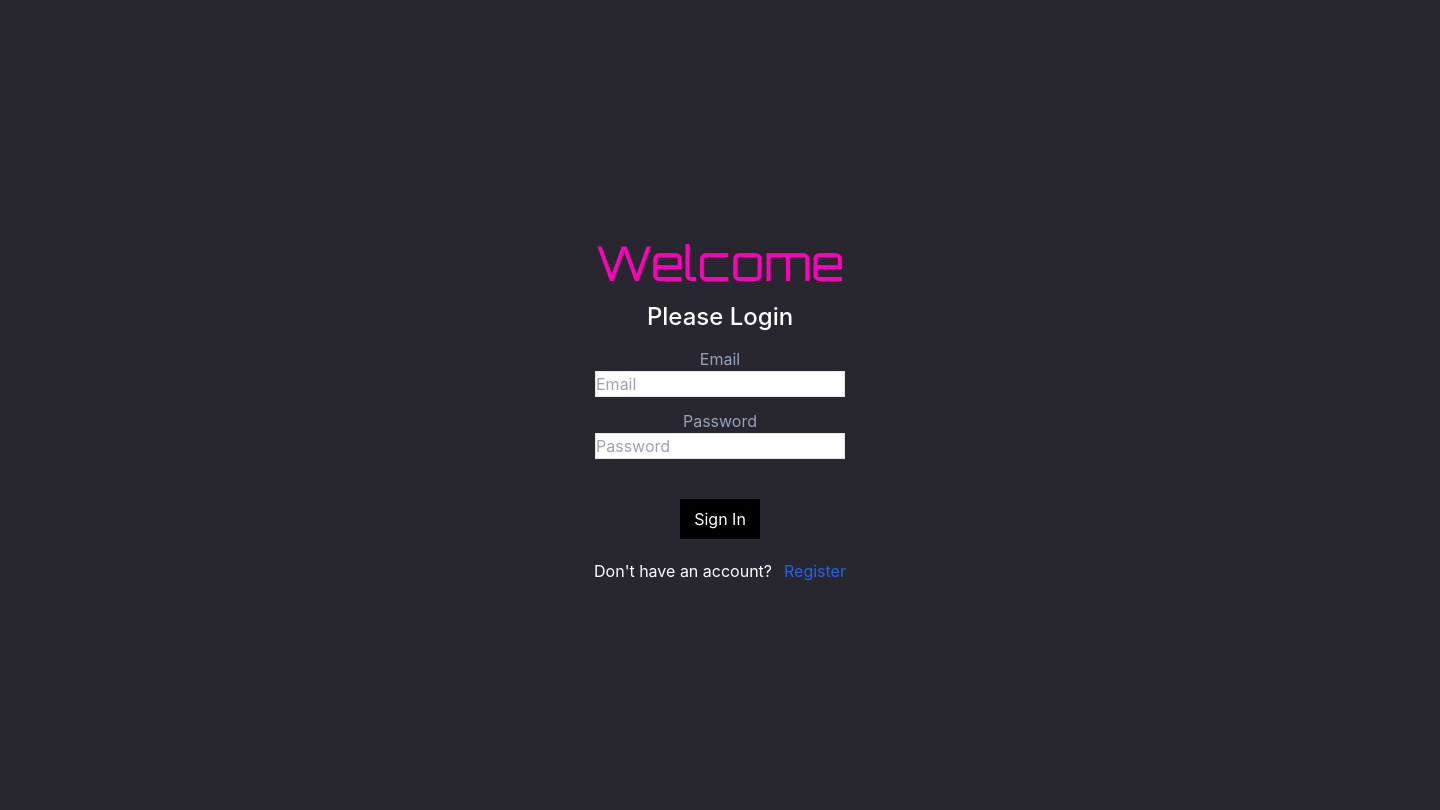
Test: displays Registration Modal when register is clicked
Click the button "Register": (815,571) [784,559,846,583]
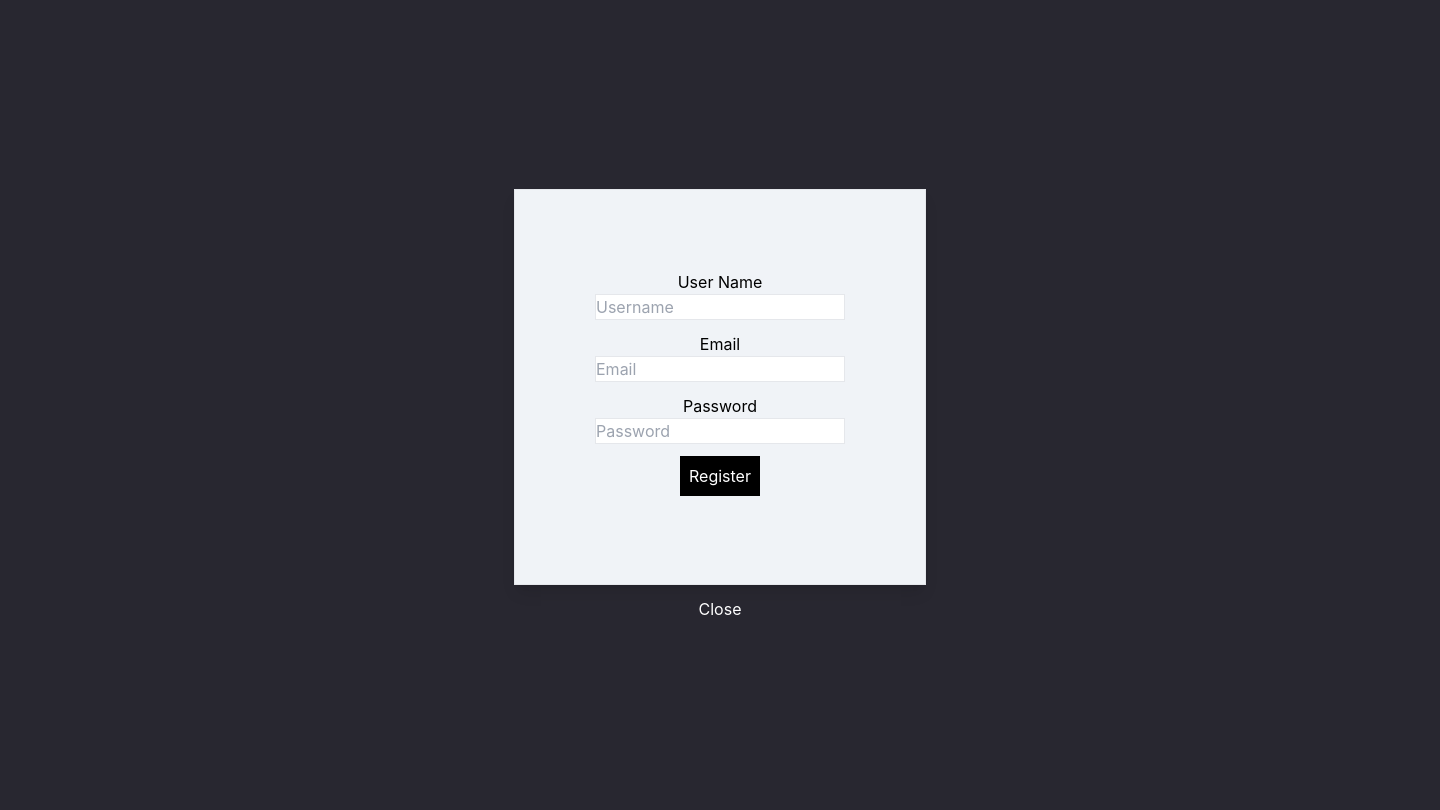
Check: the text "User Name" is shown, box [678,270,762,294]
Check: the element with test id "reg-modal" is shown
